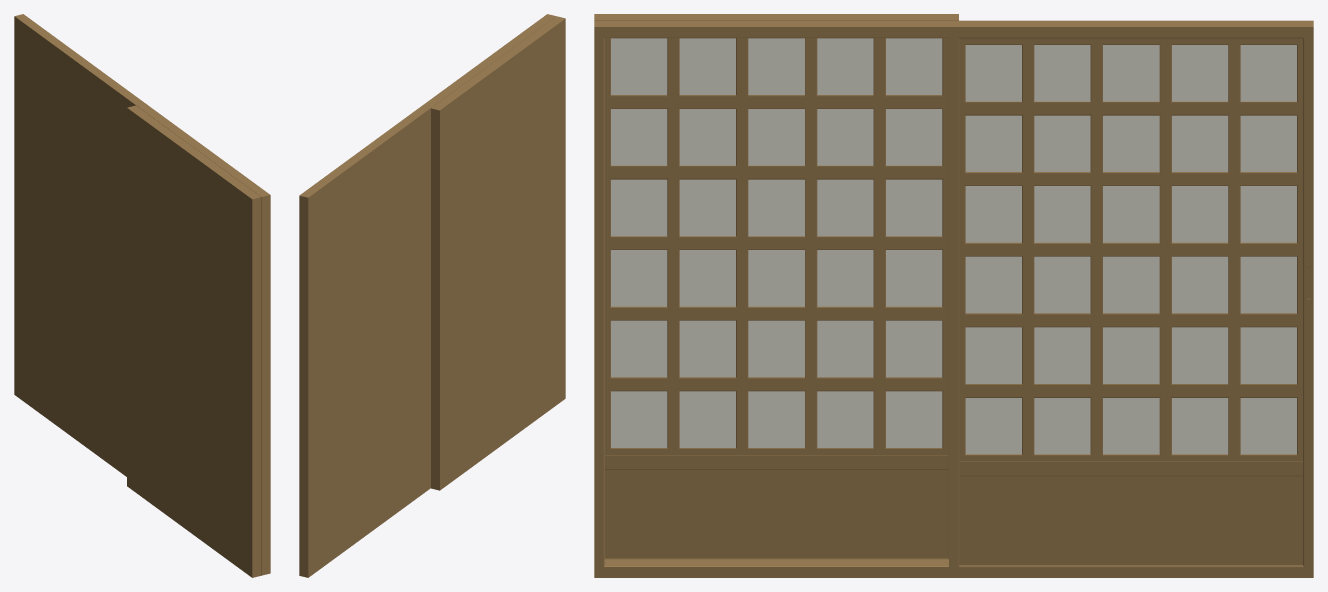
Rendered from Left_Door_Main_Hall.fbx.
3 renders of one model, left to right at view 1: azimuth 30°, elevation 25°; view 2: azimuth 150°, elevation 25°; view 3: azimuth 270°, elevation 25°, orthographic. The views are drawn at different scales.
Parts seen in each view (by area): view 1: Cube.008; view 2: Cube.008; view 3: Cube.008.
Boxes of the visible parts, x1,y1,x2,y2 form: Cube.008: (14,14,270,577); Cube.008: (299,14,565,577); Cube.008: (594,14,1313,577).
Bounding box in the file's own units: 10.11 × 200 × 237.
